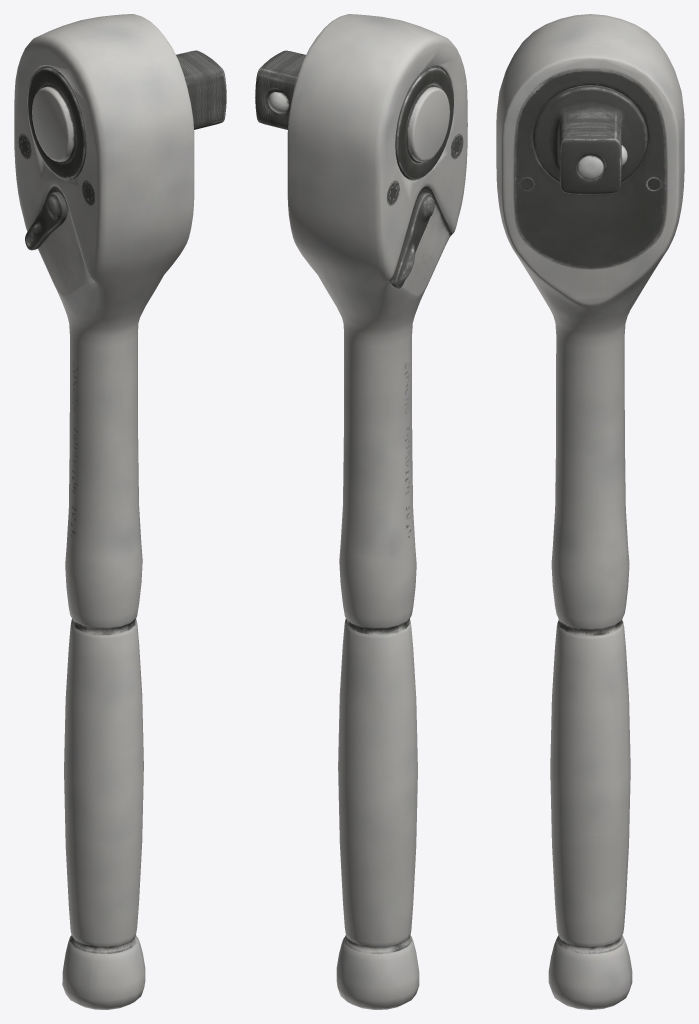
File: ratchet_wrench.glb
The picture shows the model from 3 angles, left to right: view 1: azimuth 30°, elevation 25°; view 2: azimuth 150°, elevation 25°; view 3: azimuth 270°, elevation 25°; orthographic projection.
Parts seen in each view (by area): view 1: ratchet_wrench; view 2: ratchet_wrench; view 3: ratchet_wrench.
Part boxes in pixels (x1=…): ratchet_wrench: x1=14, y1=14, x2=226, y2=1009; ratchet_wrench: x1=255, y1=14, x2=467, y2=1009; ratchet_wrench: x1=496, y1=14, x2=684, y2=1009.
Bounding box in the file's own units: 0.0441 × 0.2462 × 0.0434.
1 material, 1 textured.
